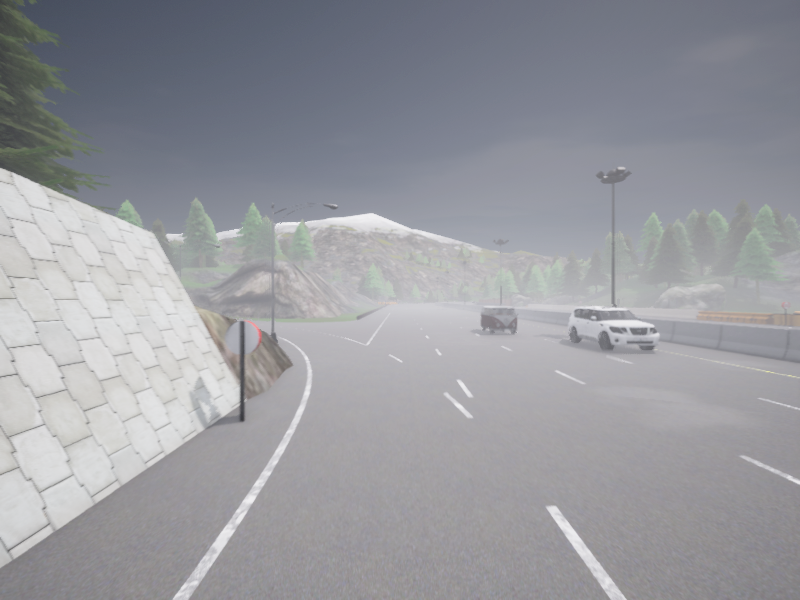vehicle: (568, 306, 659, 351), (481, 306, 518, 334), (473, 301, 476, 303)
